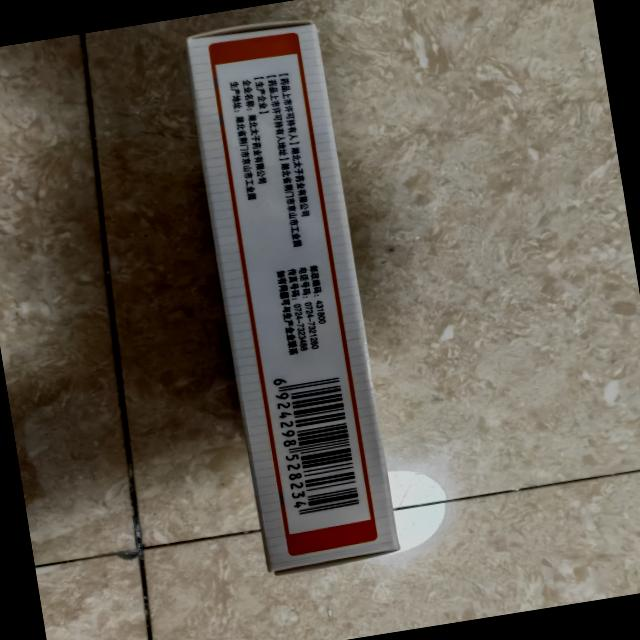box: (168, 8, 421, 586)
